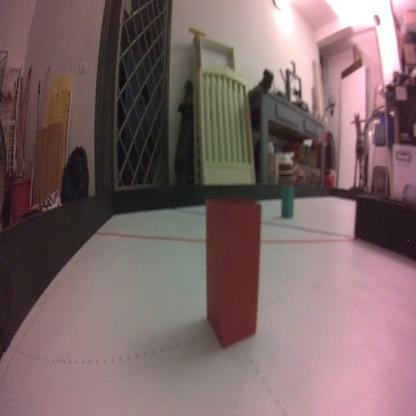green: (282, 183, 294, 221)
red: (203, 190, 263, 356)
